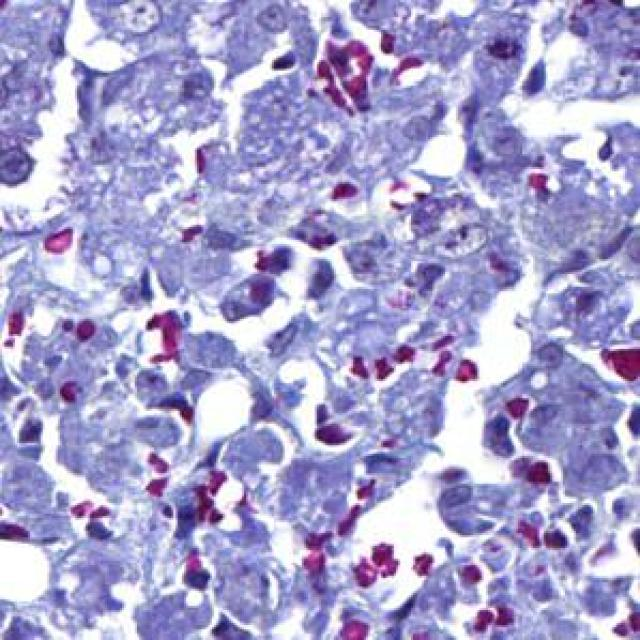inflammation: (300, 23, 385, 120), (124, 294, 201, 371)
